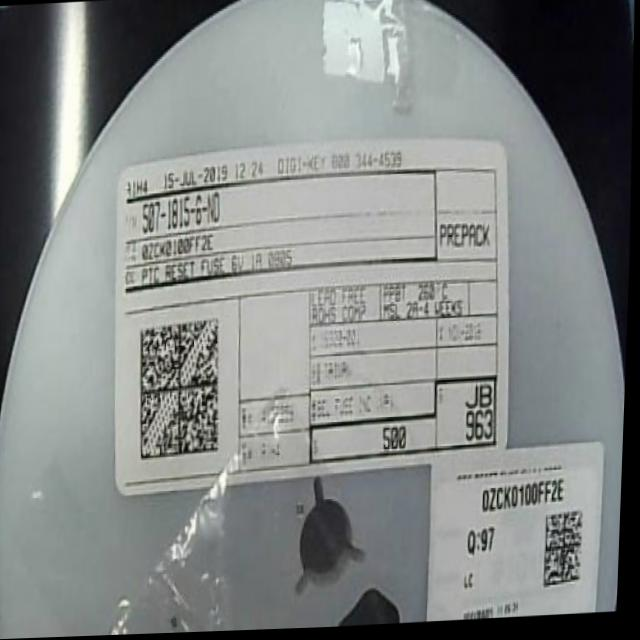datamatrix: (137, 316, 229, 463), (546, 510, 591, 595)
